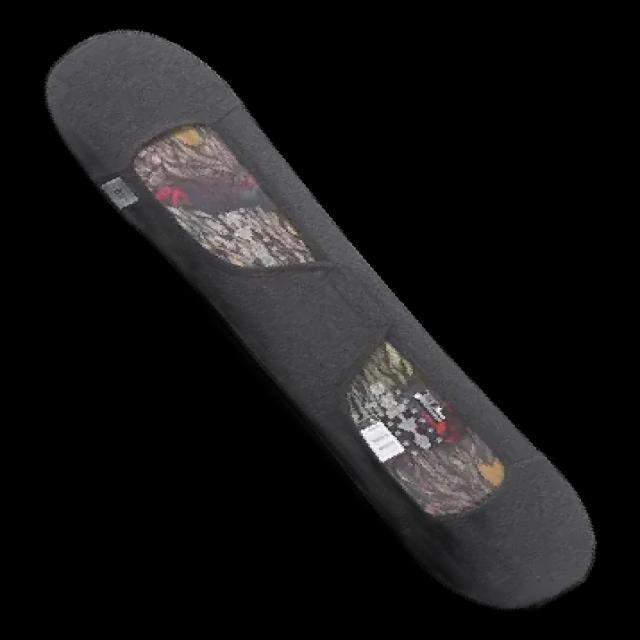Snowboard: (43, 27, 597, 611)
